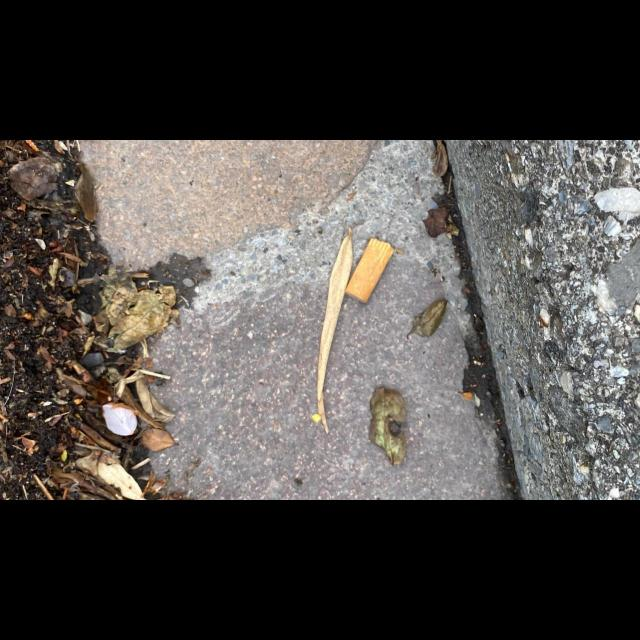cigarette: (344, 236, 394, 304)
